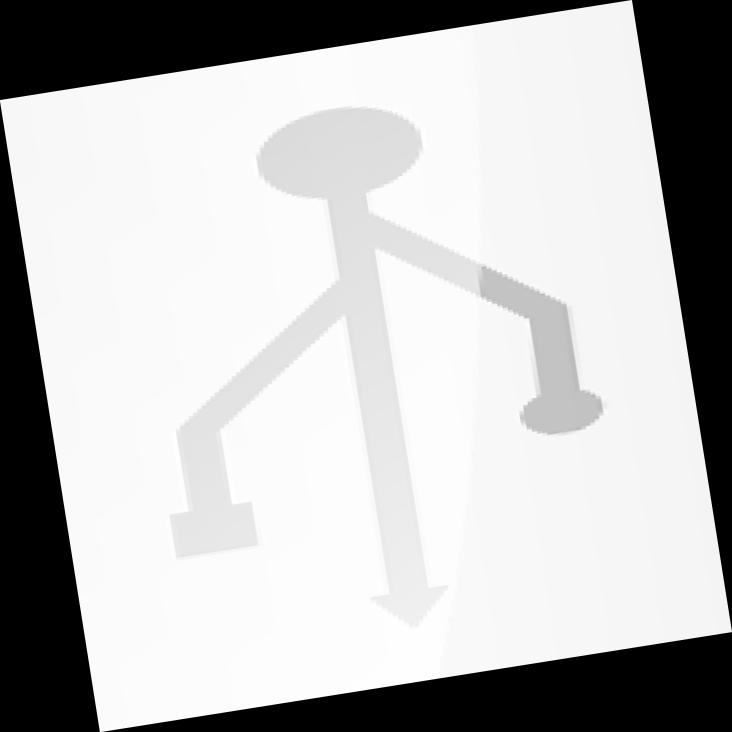usb: (5, 0, 732, 731)
